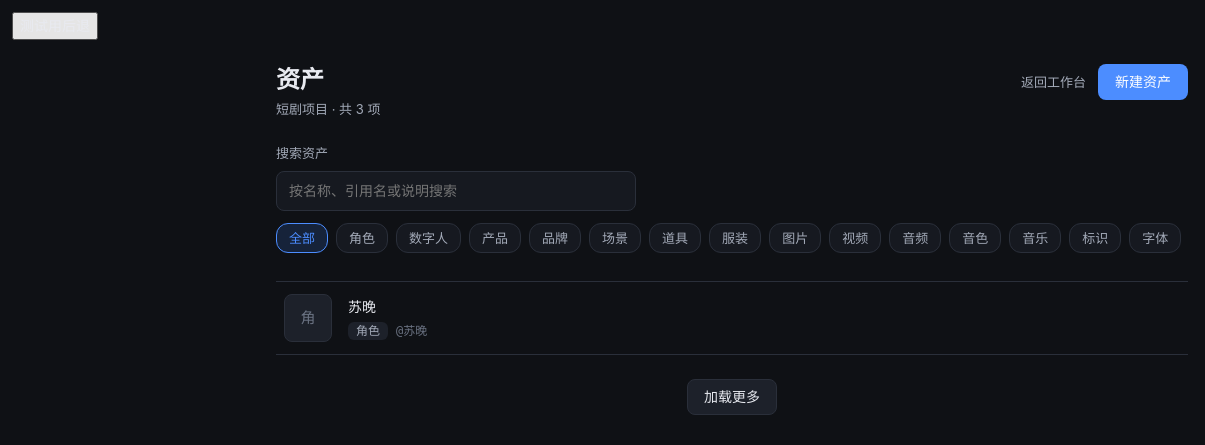
Test: AssetLibraryPage 的工具栏 › 「加载更多」把下一页追加到列表后面，而不是替换
Expected: the button "角 苏晚 角色 @苏晚" is shown, [276,282,1188,355]
Click the button "加载更多" at [732, 397], box [687,379,777,415]
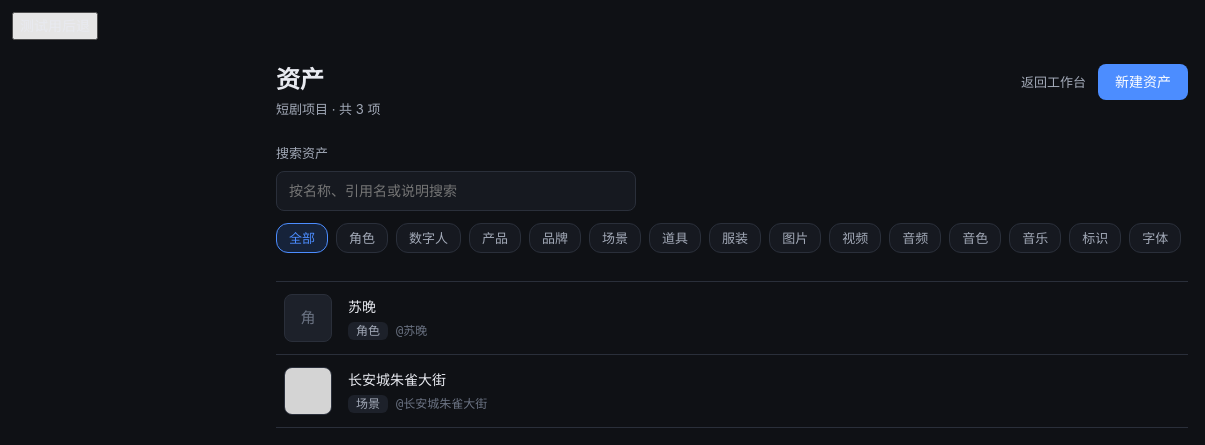
Expected: the button "角 苏晚 角色 @苏晚" is shown, [276,282,1188,355]
Expected: the button "长安城朱雀大街 场景 @长安城朱雀大街" is shown, [276,355,1188,428]
